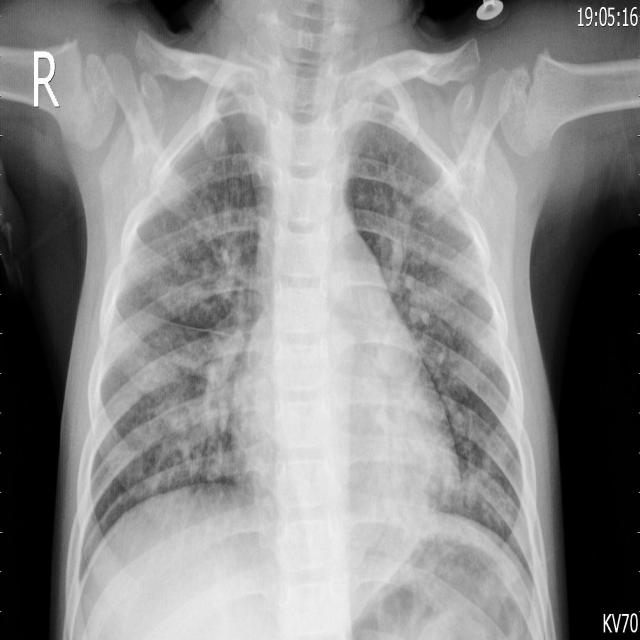low-pneumonia: (142, 305, 256, 478), (381, 185, 458, 353), (196, 188, 255, 308)
